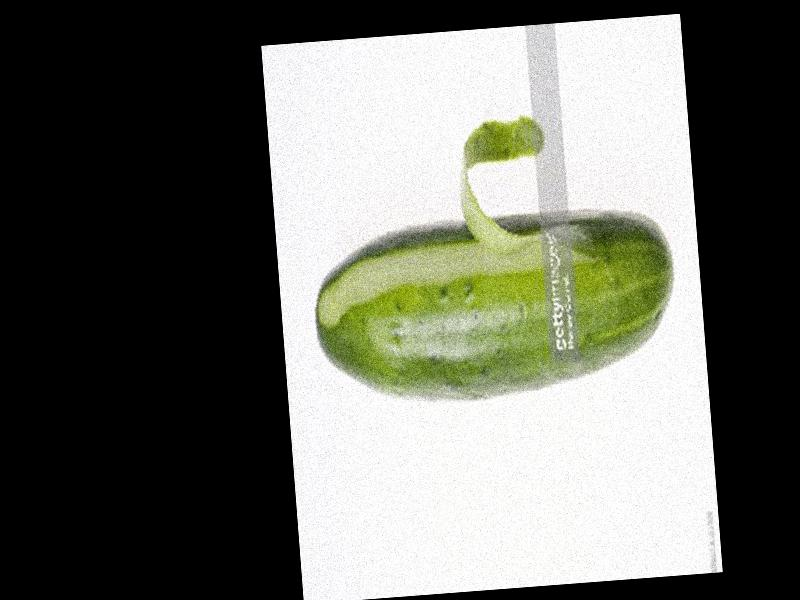Cucumber: (307, 199, 682, 409)
